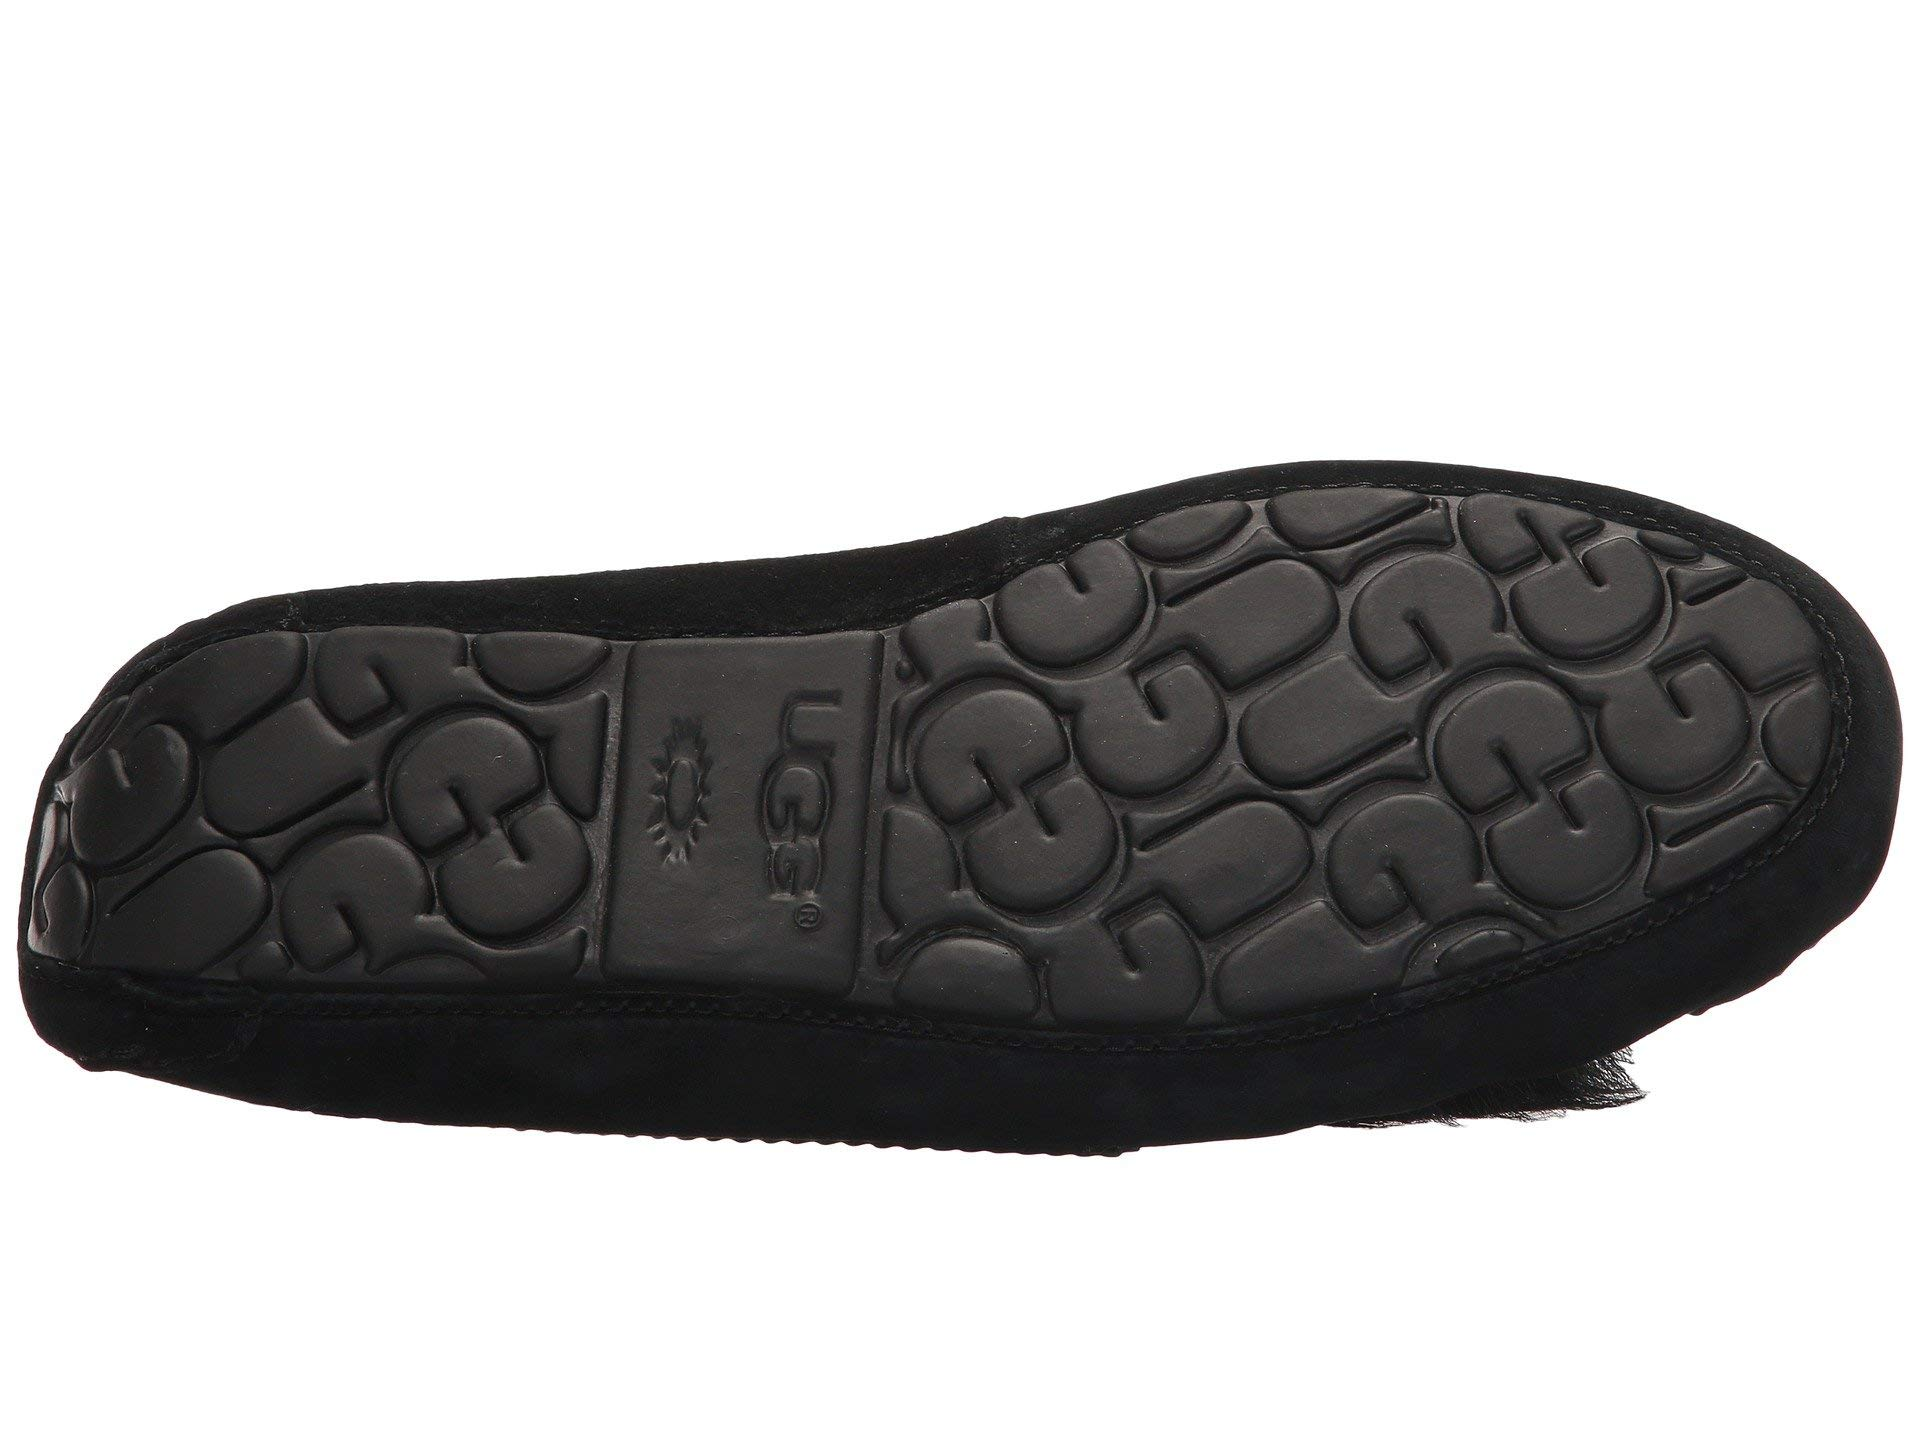circle: (633, 652, 844, 968)
line: (1163, 510, 1672, 951)
quad: (1163, 510, 1672, 951)
star: (633, 652, 844, 968)
text: (633, 652, 844, 968)
